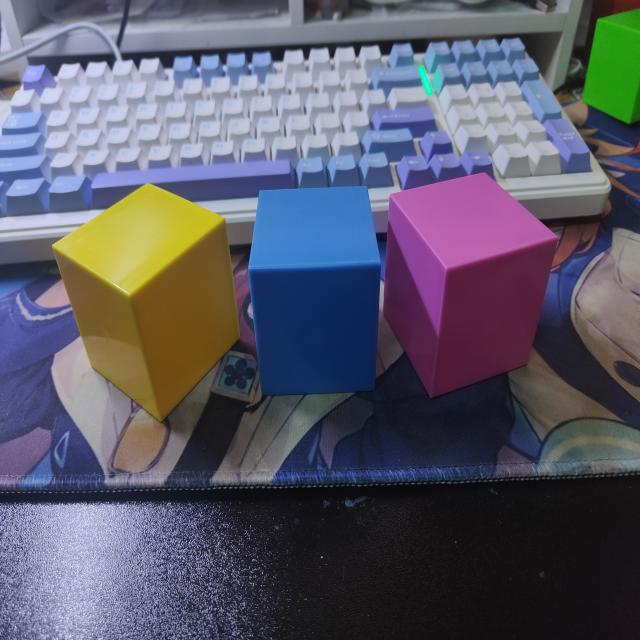blue: (248, 186, 382, 399)
pink: (380, 175, 559, 401)
yellow: (51, 185, 239, 423)
